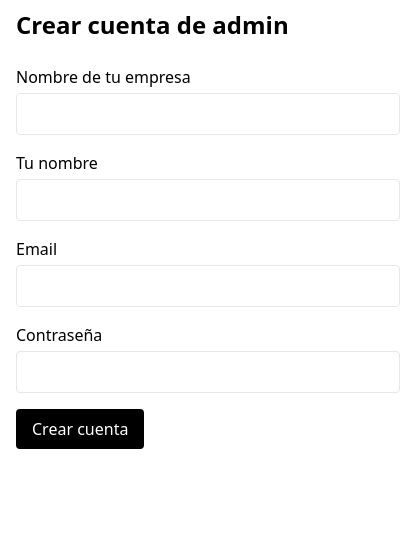
Test: Signup page › renders all required fields and validates them
The width and height of the screenshot is (417, 546).
Expected: the field labelled "Nombre de tu empresa" is shown, [16,93,400,135]
Expected: the field labelled "Tu nombre" is shown, [16,179,400,221]
Click the button "Crear cuenta" at (80, 429), box [16,409,144,449]
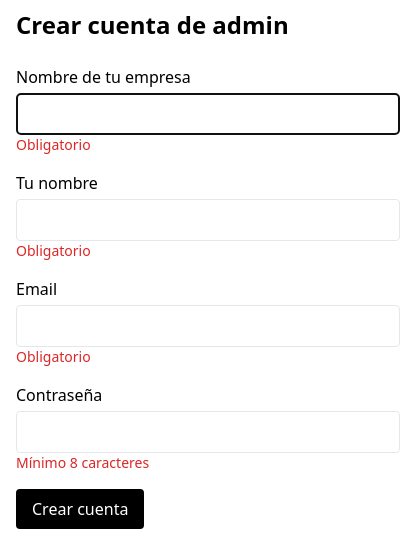
Expected: the text "Obligatorio" below "Nombre de tu empresa" is shown, [16,135,91,154]
